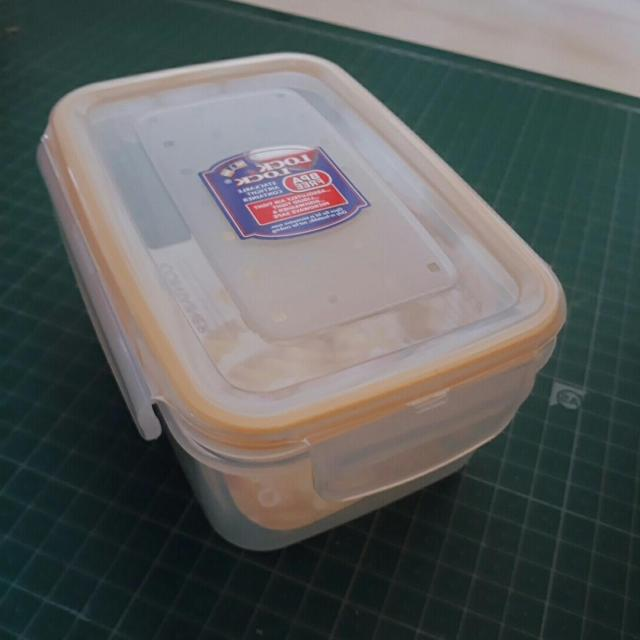plastic: (38, 50, 566, 549)
